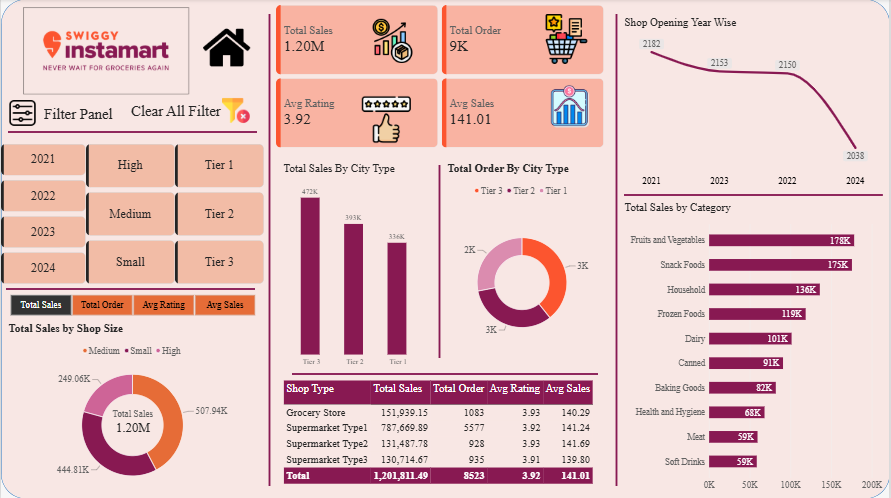

The dashboard page shown, as its layout file describes it:
{"tool":"powerbi","page":{"name":"Page 1","canvas":[1920,1080],"ordinal":0},"visuals":[{"type":"shape","box":[0,0,1920.2,1080],"z":0},{"type":"image","box":[47.5,13,358.6,198.7],"z":1000},{"type":"cardVisual","fields":{"Data":["Grocery Shop.Total Sales","Grocery Shop.Total Order","Grocery Shop.Avg Rating","Grocery Shop.Avg Sales"]},"box":[594,13,708.5,308.9],"z":2000},{"type":"donutChart","title":"Total Order By City Type","fields":{"Y":["Grocery Shop.Total Order"],"Category":["Grocery Shop.Shop City Type"]},"box":[948.2,339.1,354.2,470.9],"z":3000},{"type":"image","box":[786.2,41,118.8,99.4],"z":4000},{"type":"image","box":[1181.5,179.3,95,105.8],"z":5000},{"type":"image","box":[1166.4,32.4,110.2,108],"z":6000},{"type":"image","box":[760.3,207.4,144.7,105.8],"z":7000},{"type":"columnChart","title":"Total Sales By City Type","fields":{"Y":["Grocery Shop.Total Sales"],"Category":["Grocery Shop.Shop City Type"]},"box":[594,339.1,341.3,470.9],"z":8000},{"type":"tableEx","fields":{"Values":["Grocery Shop.Shop Type","Grocery Shop.Total Sales","Grocery Shop.Total Order","Grocery Shop.Avg Rating","Grocery Shop.Avg Sales"]},"box":[594,810,708.5,270],"z":9000},{"type":"lineChart","title":"Shop Opening Year Wise","fields":{"Category":["Grocery Shop.Shop Opening Year"],"Y":["CountNonNull(Grocery Shop.Shop Type)"]},"box":[1330.6,23.8,589.7,399.6],"z":10000},{"type":"barChart","fields":{"Y":["Grocery Shop.Total Sales"],"Category":["Grocery Shop.Category"]},"box":[1330.6,423.4,589.7,656.6],"z":11000},{"type":"slicer","fields":{"Values":["Matrix.Matrix"]},"box":[0,637.2,568.1,47.5],"z":12000},{"type":"donutChart","fields":{"Y":["Grocery Shop.Total Sales"],"Category":["Grocery Shop.Shop Size"]},"box":[0,684.7,568.1,395.3],"z":13000},{"type":"cardVisual","fields":{"Data":["Grocery Shop.Total Sales"]},"box":[218.2,864,133.9,101.5],"z":14000},{"type":"advancedSlicerVisual","fields":{"Values":["Grocery Shop.Shop Opening Year"]},"box":[0,313.2,183.6,304.6],"z":15000},{"type":"advancedSlicerVisual","fields":{"Values":["Grocery Shop.Shop Size"]},"box":[183.6,313.2,192.2,304.6],"z":16000},{"type":"advancedSlicerVisual","fields":{"Values":["Grocery Shop.Shop City Type"]},"box":[375.8,313.2,192.2,304.6],"z":17000},{"type":"image","box":[0,218.2,92.9,56.2],"z":18000},{"type":"textbox","box":[92.9,231.1,187.9,47.5],"z":19000},{"type":"textbox","box":[280.8,224.6,209.5,47.5],"z":20000},{"type":"image","box":[477.4,207.4,60.5,67],"z":21000},{"type":"image","box":[436.3,51.8,101.5,105.8],"z":22000},{"type":"shape","box":[15.1,252.7,537.8,69.1],"z":22001},{"type":"shape","box":[628.6,775.4,661,69.1],"z":22002},{"type":"shape","box":[1345.7,388.8,559.4,69.1],"z":22003},{"type":"shape","box":[1289.5,32.4,79.9,1019.5],"z":22004},{"type":"shape","box":[553,32.4,54,1019.5],"z":22005},{"type":"shape","box":[10.8,591.8,537.8,69.1],"z":22006},{"type":"shape","box":[907.2,358.6,79.9,416.9],"z":22007}]}

Visuals, with their boxes in screenshot pixels (x1, y1, x2, y2), scaled from the page's 1920x1080 canvas onto the 891x498 screenshot:
shape: bbox=(0, 0, 890, 497)
image: bbox=(22, 6, 188, 98)
cardVisual - Grocery Shop.Total Sales x Grocery Shop.Total Order: bbox=(276, 6, 604, 148)
"Total Order By City Type" donutChart: bbox=(440, 156, 604, 374)
image: bbox=(365, 19, 420, 65)
image: bbox=(548, 83, 592, 131)
image: bbox=(541, 15, 592, 65)
image: bbox=(353, 96, 420, 144)
"Total Sales By City Type" columnChart: bbox=(276, 156, 434, 374)
tableEx - Grocery Shop.Shop Type x Grocery Shop.Total Sales: bbox=(276, 374, 604, 497)
"Shop Opening Year Wise" lineChart: bbox=(617, 11, 890, 195)
barChart - Grocery Shop.Total Sales x Grocery Shop.Category: bbox=(617, 195, 890, 497)
slicer - Matrix.Matrix: bbox=(0, 294, 264, 316)
donutChart - Grocery Shop.Total Sales x Grocery Shop.Shop Size: bbox=(0, 316, 264, 497)
cardVisual - Grocery Shop.Total Sales: bbox=(101, 398, 163, 445)
advancedSlicerVisual - Grocery Shop.Shop Opening Year: bbox=(0, 144, 85, 285)
advancedSlicerVisual - Grocery Shop.Shop Size: bbox=(85, 144, 174, 285)
advancedSlicerVisual - Grocery Shop.Shop City Type: bbox=(174, 144, 264, 285)
image: bbox=(0, 101, 43, 127)
textbox: bbox=(43, 107, 130, 128)
textbox: bbox=(130, 104, 228, 125)
image: bbox=(222, 96, 250, 127)
image: bbox=(202, 24, 250, 73)
shape: bbox=(7, 117, 257, 148)
shape: bbox=(292, 358, 598, 389)
shape: bbox=(624, 179, 884, 211)
shape: bbox=(598, 15, 635, 485)
shape: bbox=(257, 15, 282, 485)
shape: bbox=(5, 273, 255, 305)
shape: bbox=(421, 165, 458, 358)
